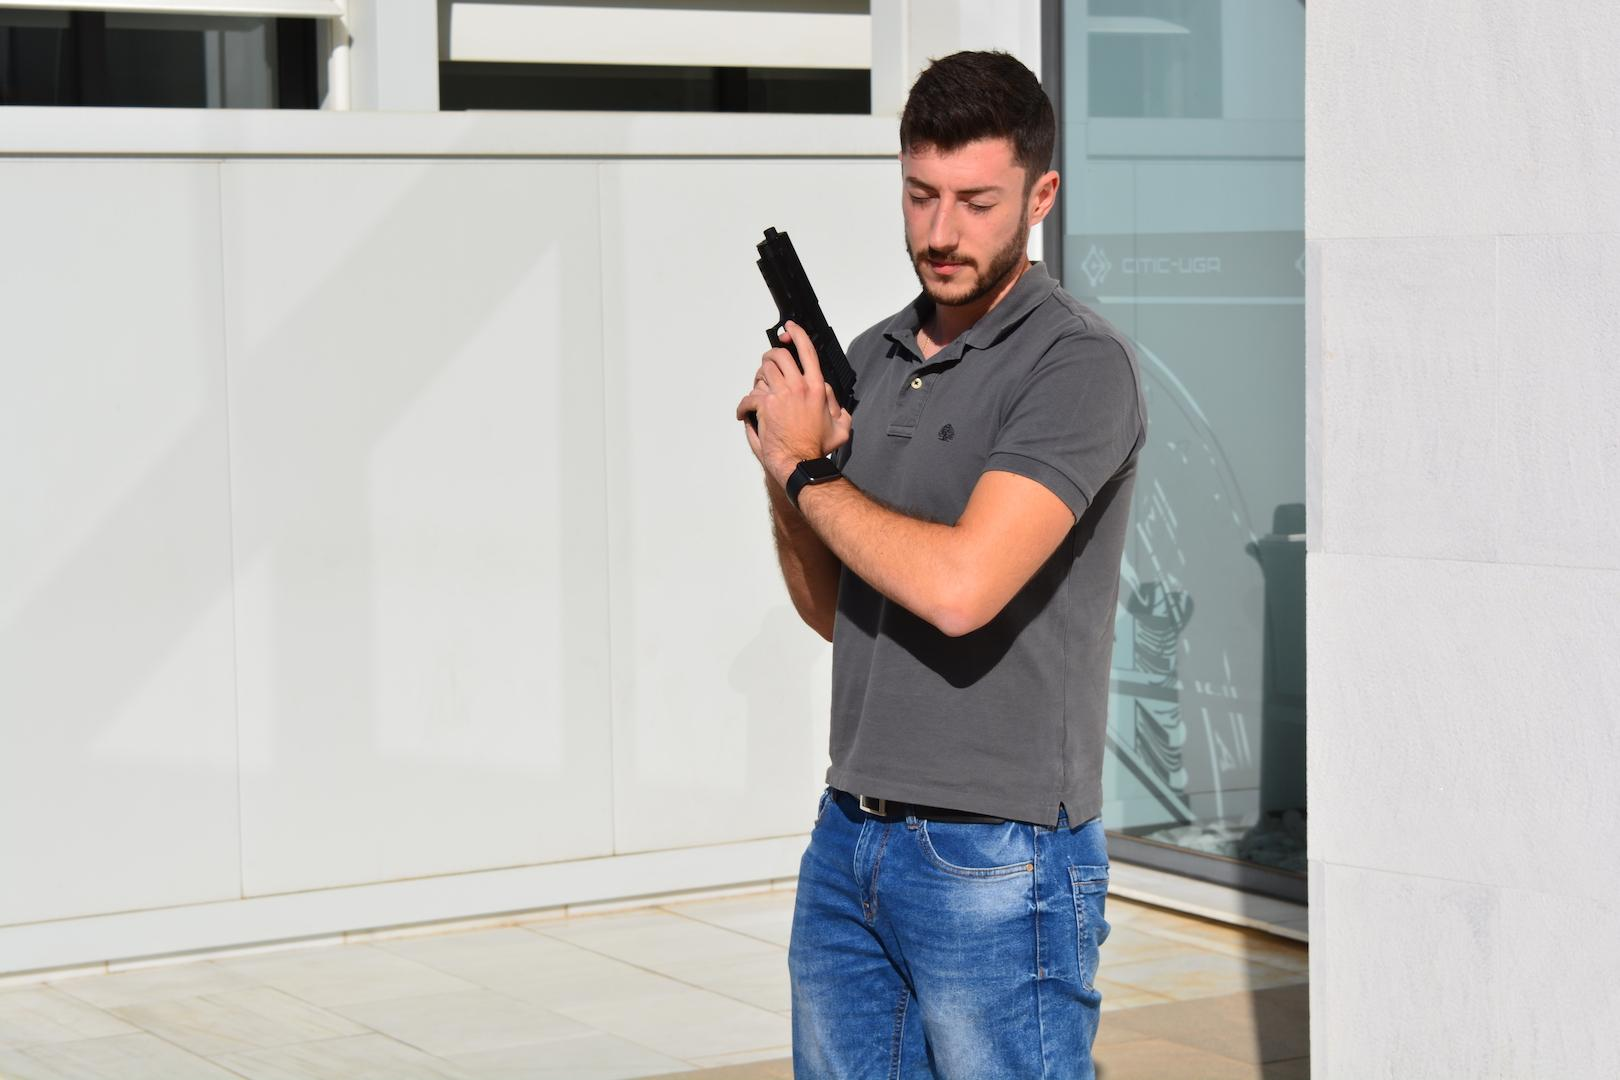criminal: (739, 48, 1150, 1080)
weapon: (739, 224, 862, 435)
